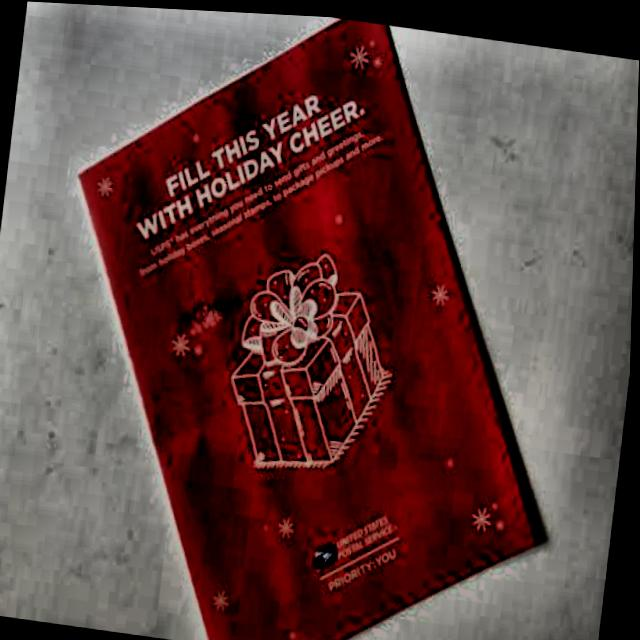Paper: (18, 1, 606, 640)
